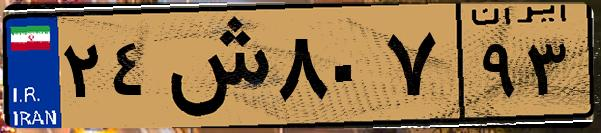0: (330, 28, 385, 110)
2: (57, 26, 110, 100)
3: (525, 38, 570, 115)
4: (110, 28, 158, 98)
7: (385, 28, 445, 110)
8: (270, 28, 330, 110)
9: (475, 38, 525, 113)
ش: (158, 12, 270, 120)
